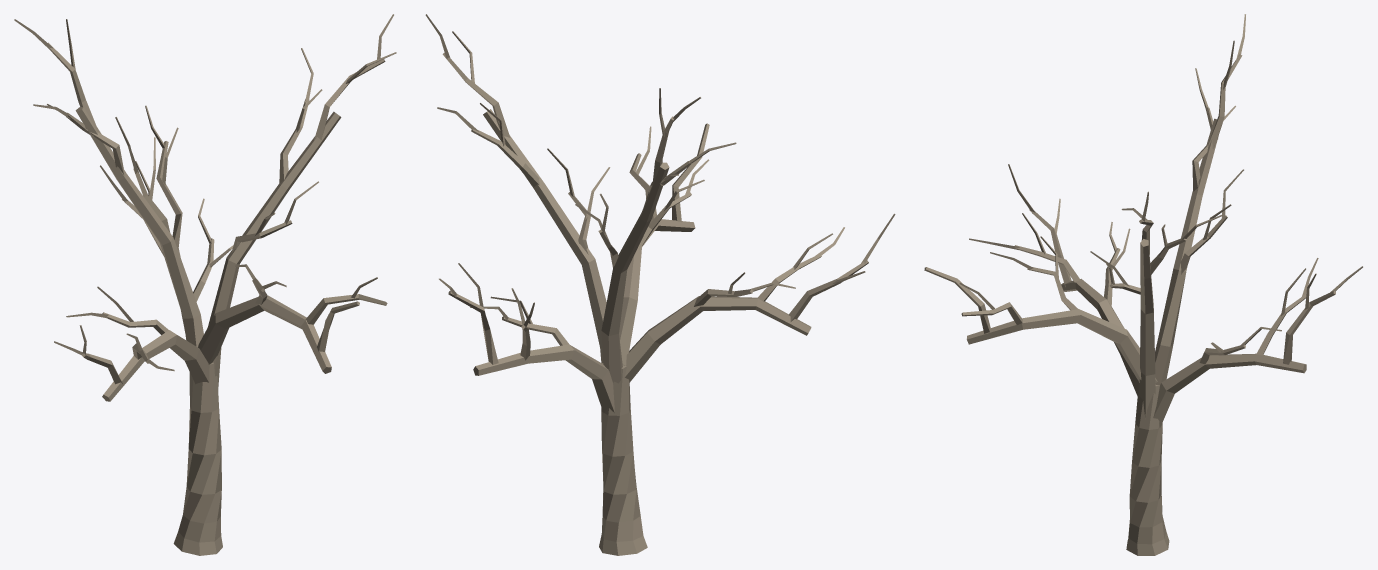
The model's file is tree_oak_bare.glb.
3 renders of one model, left to right at view 1: azimuth 30°, elevation 25°; view 2: azimuth 150°, elevation 25°; view 3: azimuth 270°, elevation 25°, orthographic. The views are drawn at different scales.
Visible parts, largest first — view 1: tree_oak_bare; view 2: tree_oak_bare; view 3: tree_oak_bare.
Boxes of the visible parts, x1,y1,x2,y2 form: tree_oak_bare: [14, 14, 396, 555]; tree_oak_bare: [425, 14, 895, 555]; tree_oak_bare: [924, 14, 1362, 555].
Size of the model in its own units: 8.63 by 11 by 9.21.
